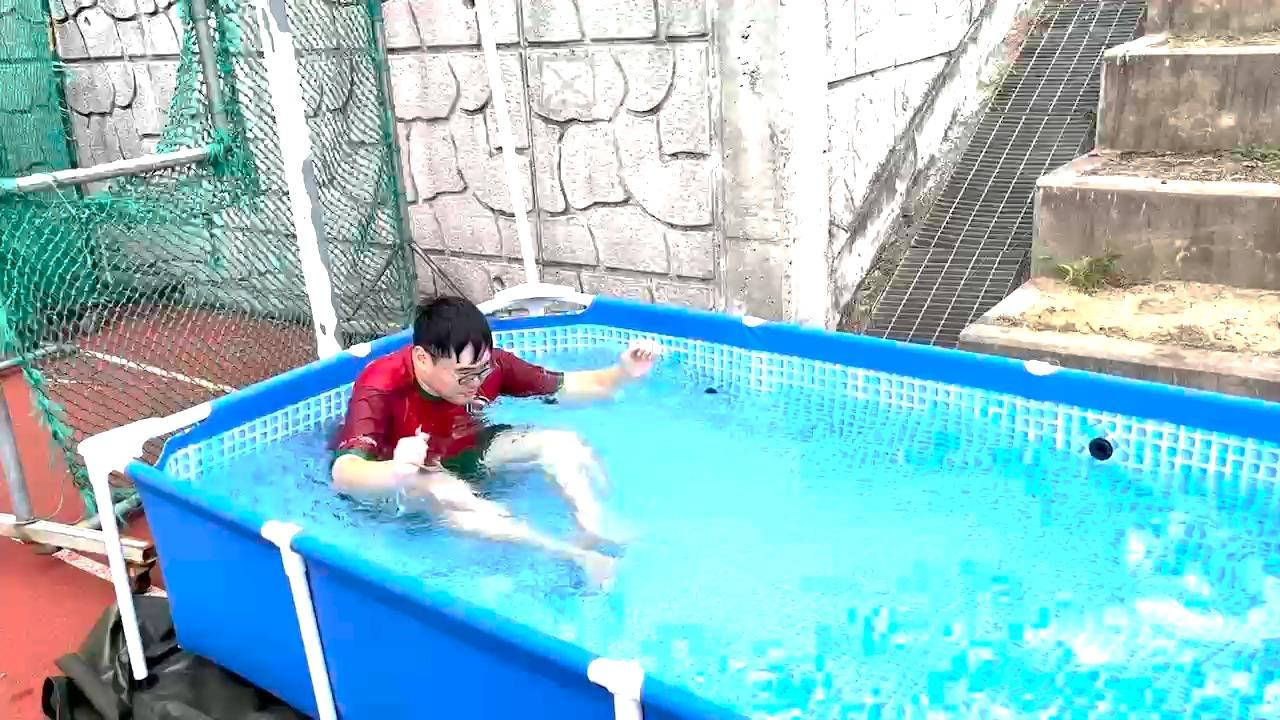Swimming: (285, 266, 753, 611)
